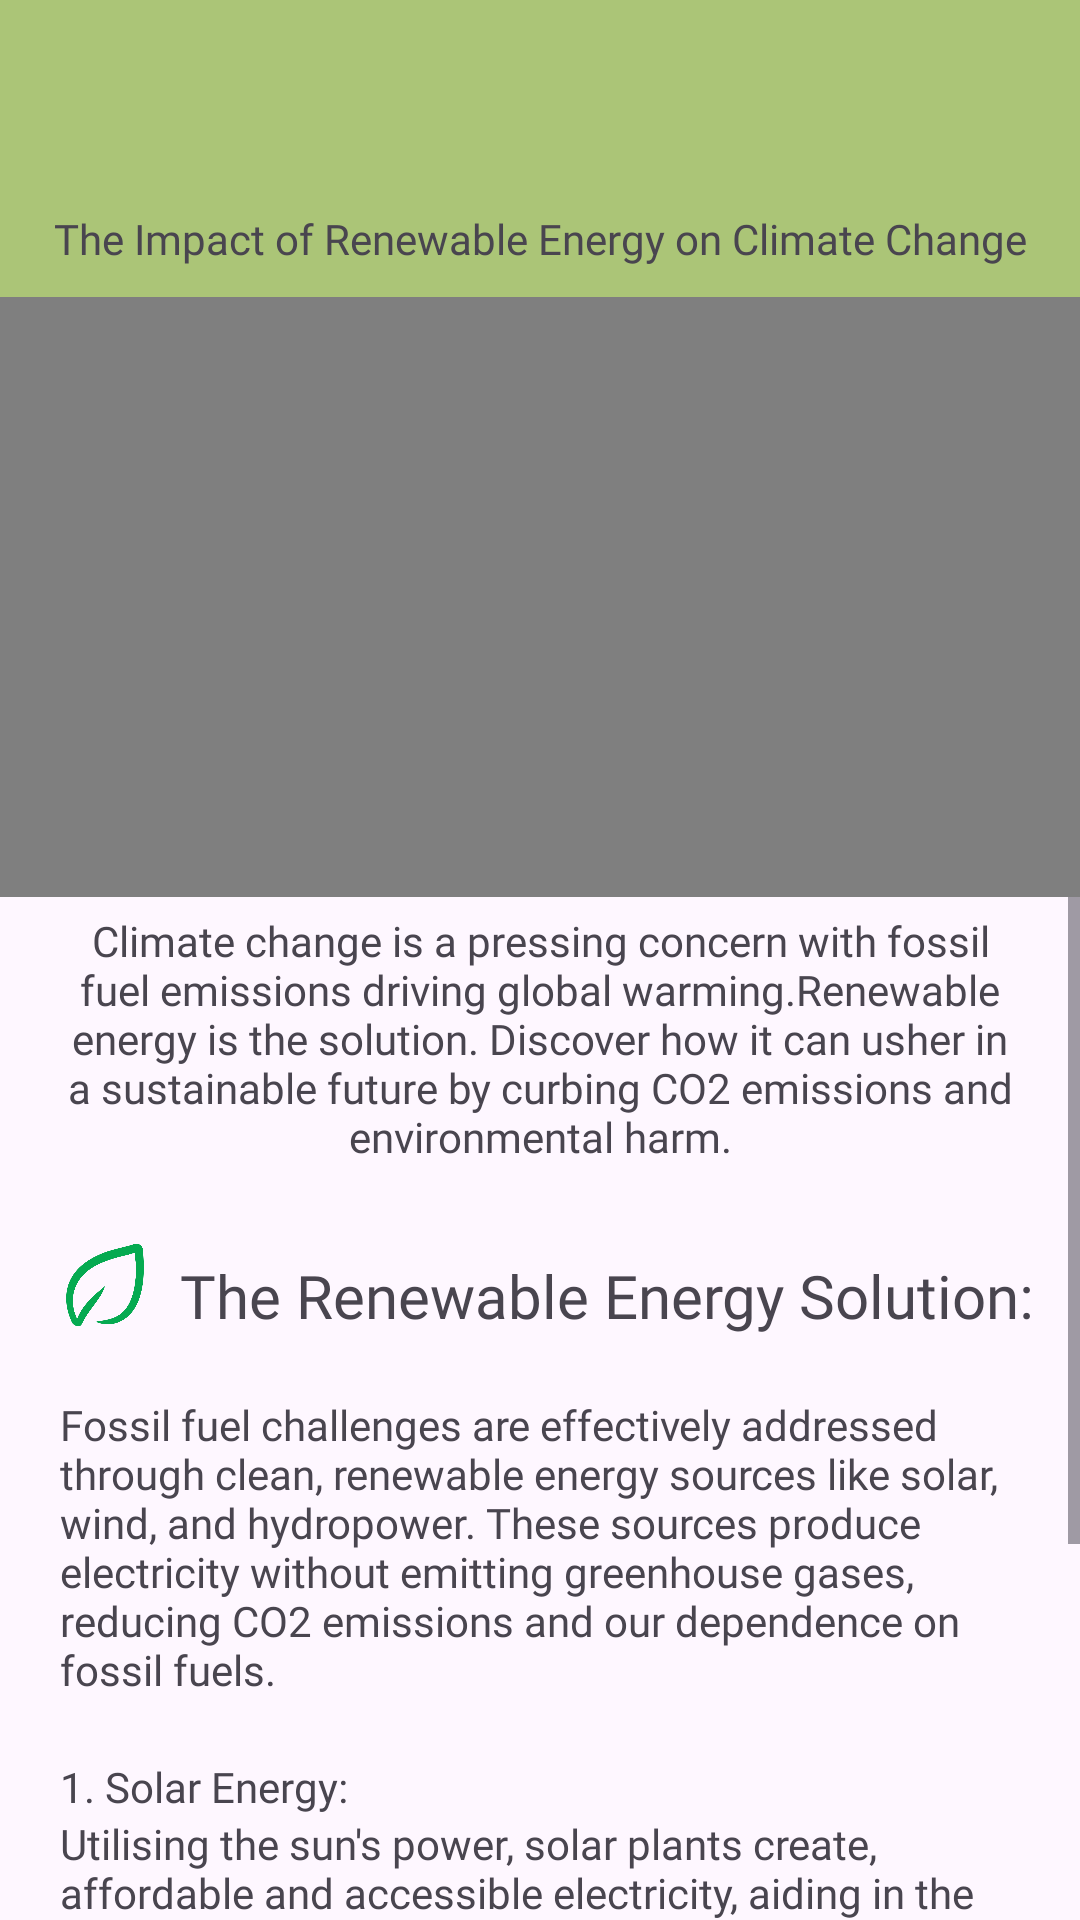

Icons on this 1080 × 1920 Android screen, each with its box as (x1, y1, x2, y2):
leaf: (66, 1244, 144, 1326)
